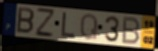3: (104, 15, 121, 43)
B: (120, 16, 141, 46), (15, 6, 35, 35)
L: (60, 11, 77, 39)
Q: (79, 12, 99, 41)
Z: (35, 6, 55, 39)
